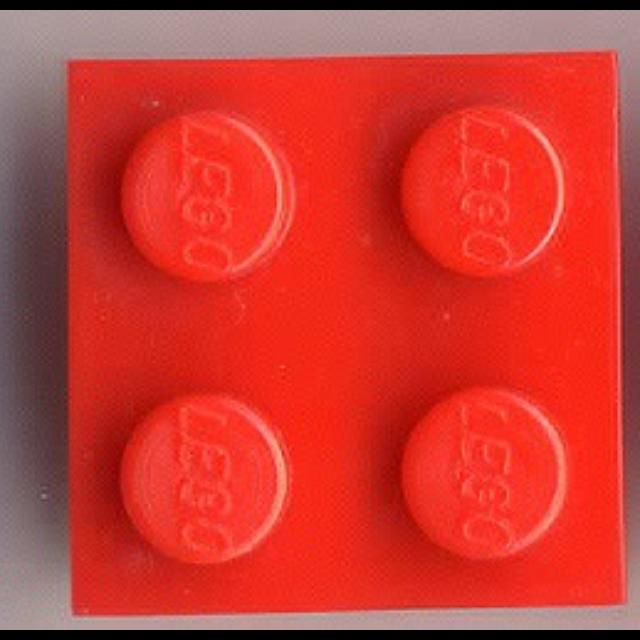2x2: (69, 52, 620, 610)
